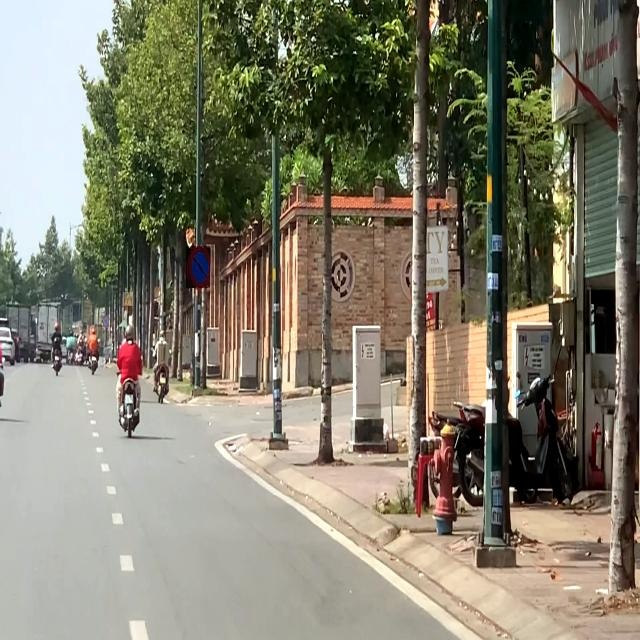bien_cam: (187, 246, 210, 288), (123, 292, 133, 306), (102, 315, 110, 328)
